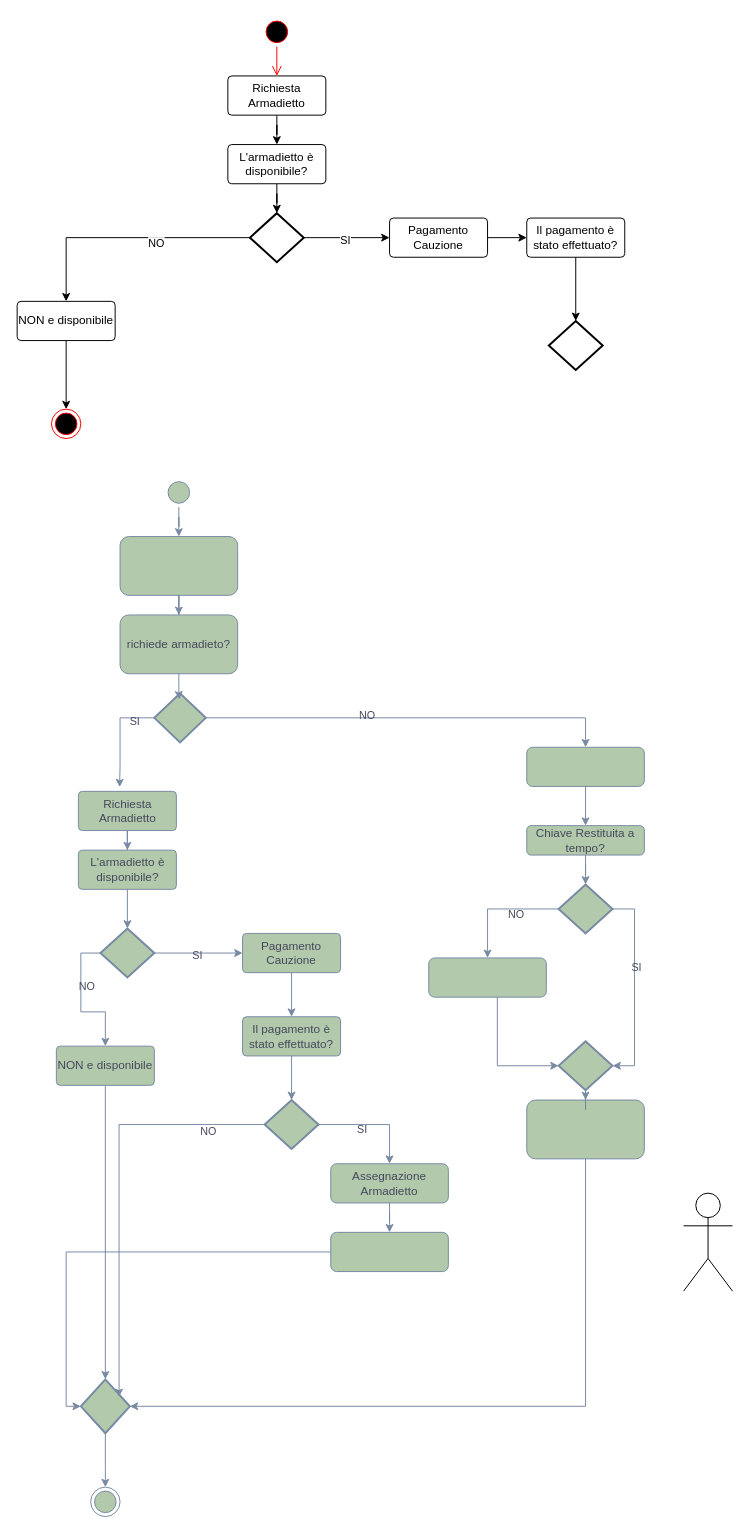
Some shapes in this 750 by 1534 pixel diagram are drawn without their labels. The centre of each missing label's shape, as x and y in pixels:
"Actor" goes at point (708, 1241).
"Applicazione Multa" goes at point (487, 977).
"Processo Rimborso" goes at point (585, 1129).
"Registrazione Transazione" goes at point (389, 1251).
"Restituzione Armadietto" goes at point (585, 766).
"Richiede un armadietto o restituisce" goes at point (178, 565).
